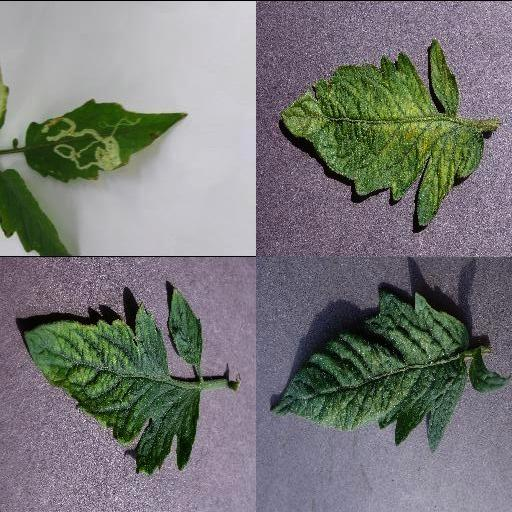Leaf Miner: (25, 98, 187, 180)
Mosaic Virus: (278, 36, 486, 226), (21, 286, 203, 476)
Spider Mites: (269, 290, 471, 452)
